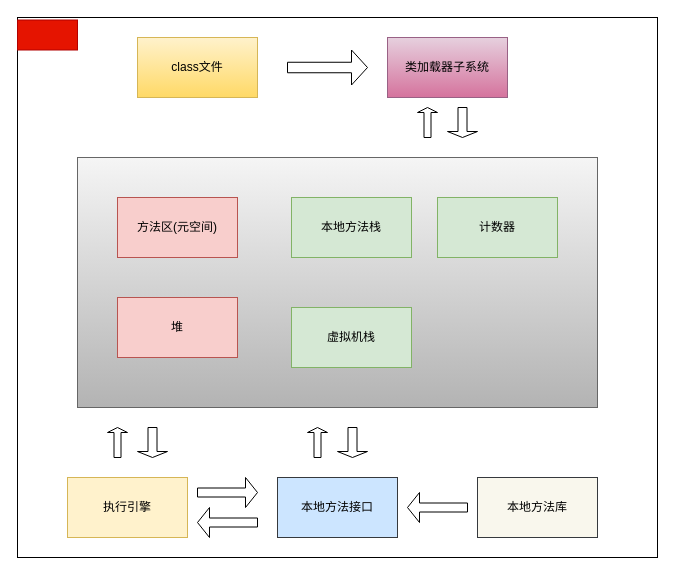
The diagram is 675 pixels wide and 575 high, and some of its shapes have lost their labels. The shapes that lost their labels are listed below. From the top down, each one's box as (x1, y1, x2, y2) in pixels, then its label:
(16, 19, 78, 50): hotspot jvm 虚拟机
(76, 156, 598, 408): 运行时数据区
